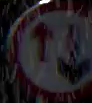Two way: (7, 3, 90, 95)
